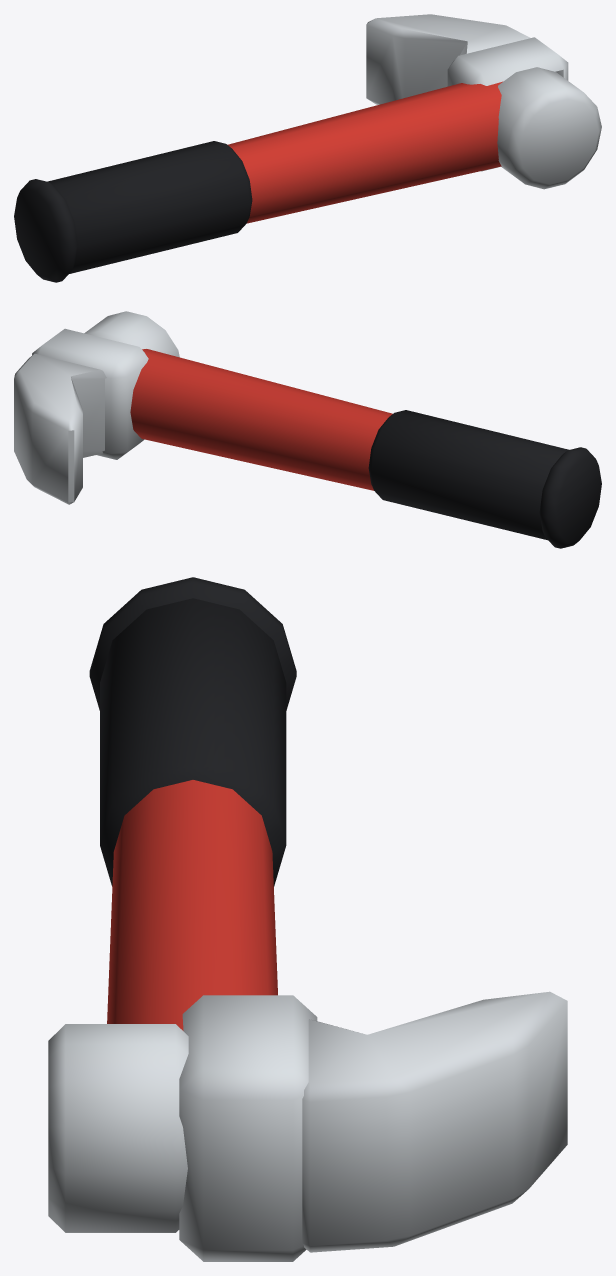
The model's file is SM_Hammer_Claw_01.glb.
The picture shows the model from 3 angles, top to bottom: view 1: azimuth 30°, elevation 25°; view 2: azimuth 150°, elevation 25°; view 3: azimuth 270°, elevation 25°; orthographic projection. The views are drawn at different scales.
Visible parts, largest first — view 1: SM_Hammer_Claw_01; view 2: SM_Hammer_Claw_01; view 3: SM_Hammer_Claw_01.
Boxes of the visible parts, x1,y1,x2,y2 form: SM_Hammer_Claw_01: [14, 14, 601, 282]; SM_Hammer_Claw_01: [14, 311, 601, 548]; SM_Hammer_Claw_01: [48, 577, 567, 1261].
Bounding box in the file's own units: 0.35 × 0.062 × 0.1506.
1 material, 1 textured.
